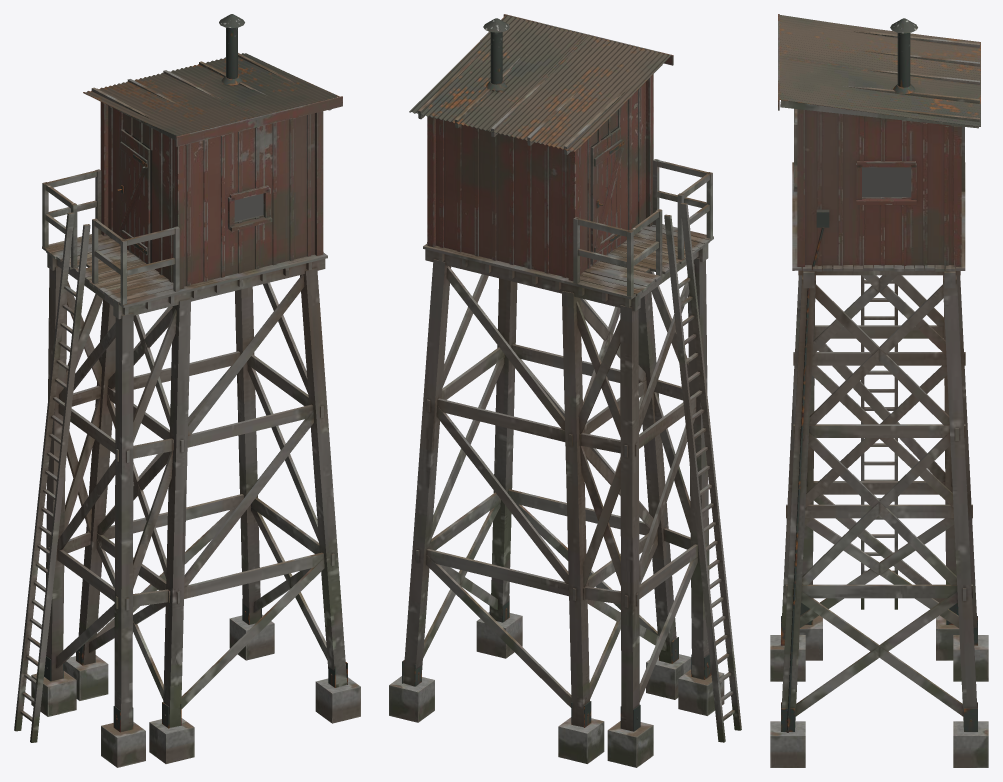
Rendered from booth.glb.
3 views of the same model, side by side, from view 1: azimuth 30°, elevation 25°; view 2: azimuth 150°, elevation 25°; view 3: azimuth 270°, elevation 25° (orthographic). The views are drawn at different scales.
Parts seen in each view (by area): view 1: wood_old, wood_painted, steel_weathered, concrete, interior, glass; view 2: wood_old, wood_painted, steel_weathered, concrete; view 3: wood_old, wood_painted, steel_weathered, concrete, glass, interior.
Part boxes in pixels (x1=…): wood_old: x1=14, y1=53, x2=347, y2=742; wood_painted: x1=100, y1=96, x2=342, y2=289; steel_weathered: x1=44, y1=14, x2=347, y2=732; concrete: x1=31, y1=614, x2=360, y2=767; interior: x1=124, y1=112, x2=276, y2=263; glass: x1=234, y1=193, x2=263, y2=221; wood_old: x1=403, y1=54, x2=741, y2=742; wood_painted: x1=427, y1=14, x2=673, y2=281; steel_weathered: x1=402, y1=15, x2=711, y2=731; concrete: x1=389, y1=612, x2=724, y2=767; wood_old: x1=780, y1=30, x2=979, y2=727; wood_painted: x1=778, y1=14, x2=961, y2=268; steel_weathered: x1=779, y1=14, x2=980, y2=732; concrete: x1=770, y1=615, x2=988, y2=767; glass: x1=862, y1=167, x2=911, y2=197; interior: x1=862, y1=167, x2=910, y2=196.
Bounding box in the file's own units: 5 × 11.19 × 3.1.
6 materials, 4 textured.
